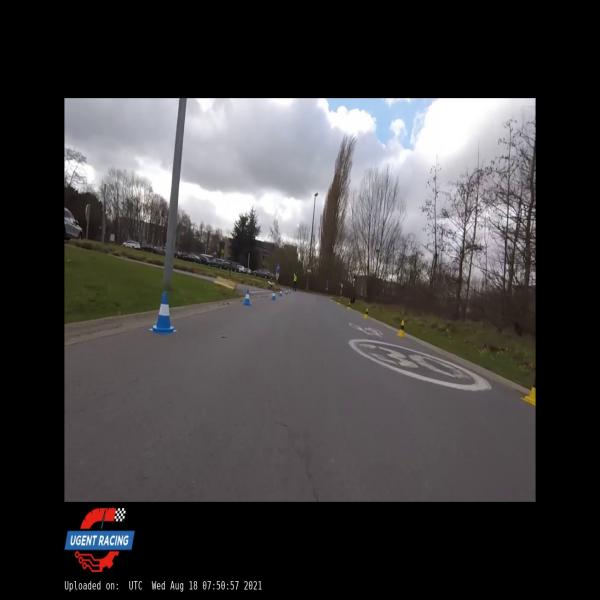blue_cone: (148, 292, 177, 335), (242, 289, 251, 306), (270, 290, 276, 301), (279, 290, 282, 296), (285, 289, 288, 294), (289, 289, 290, 293)
yellow_cone: (520, 379, 536, 407), (396, 320, 405, 338), (363, 308, 368, 319), (347, 301, 350, 310), (337, 298, 340, 304), (330, 296, 332, 300)
